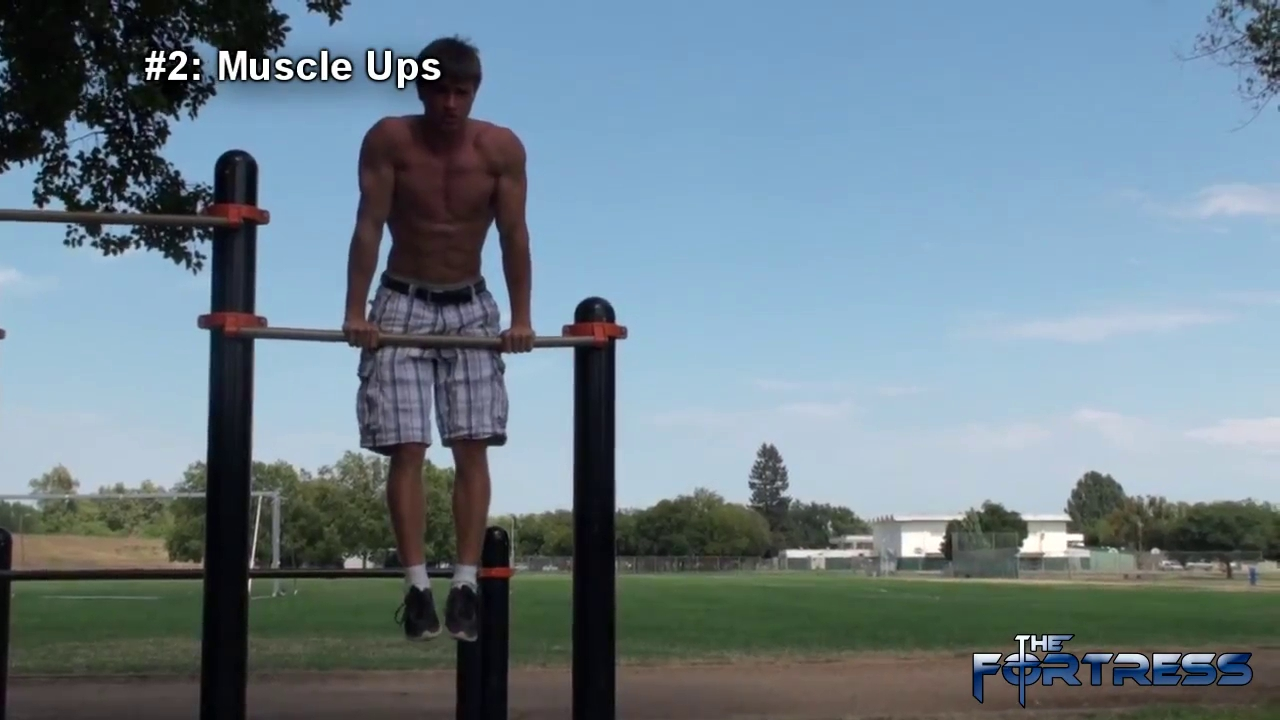person: (343, 37, 536, 642)
